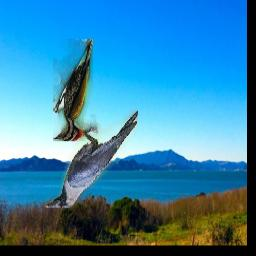Crow: (44, 111, 138, 209)
Woodpecker: (53, 40, 93, 142)
